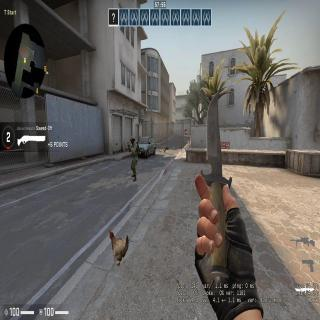CT-Body: (128, 134, 140, 176)
CT-Head: (130, 136, 134, 143)
